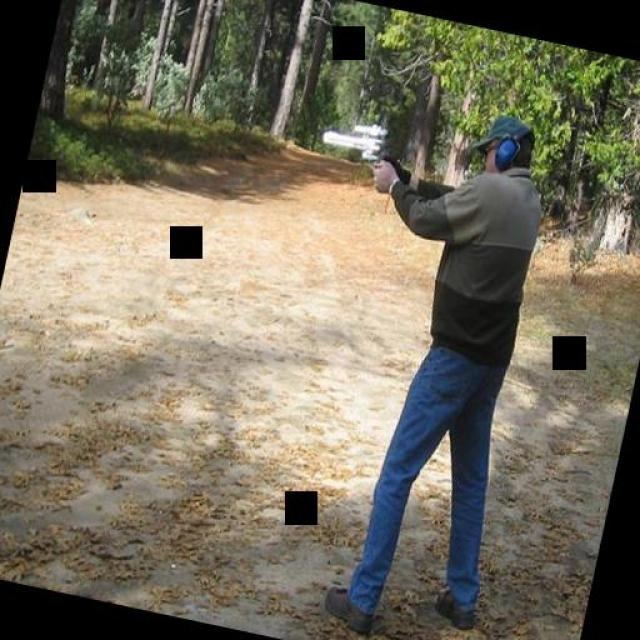gun: (315, 108, 391, 164)
